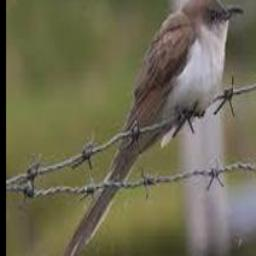Cuckoo: (54, 0, 244, 256)
